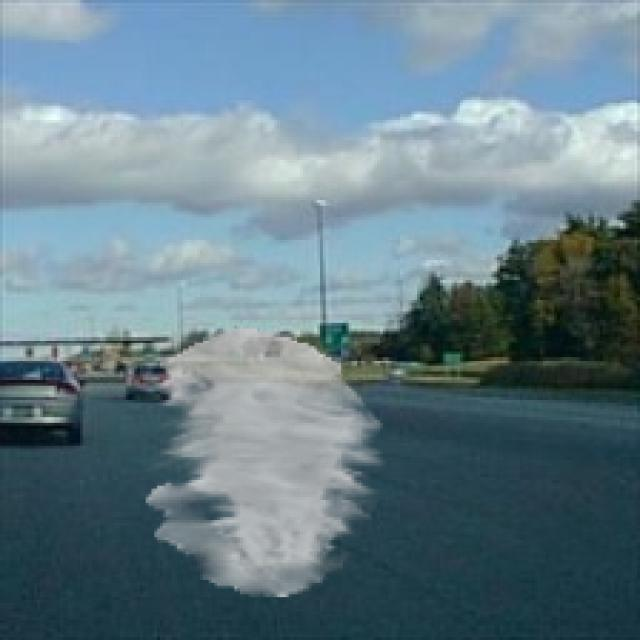Smoke: (146, 328, 386, 598)
